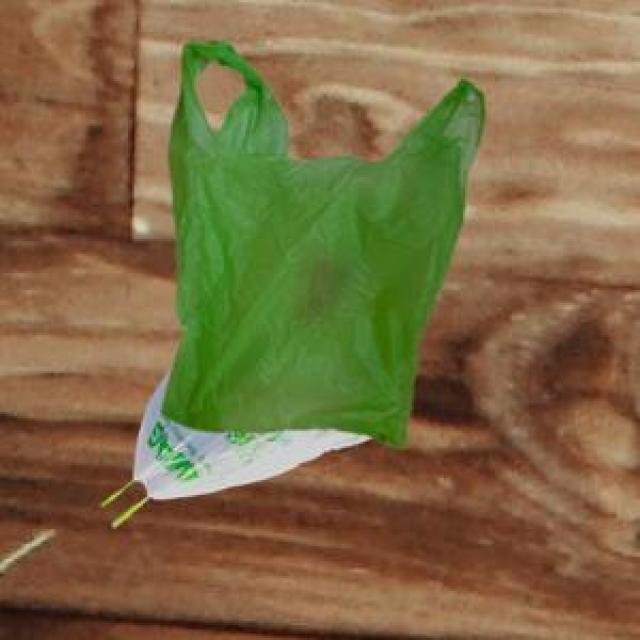plastic: (25, 27, 534, 574)
